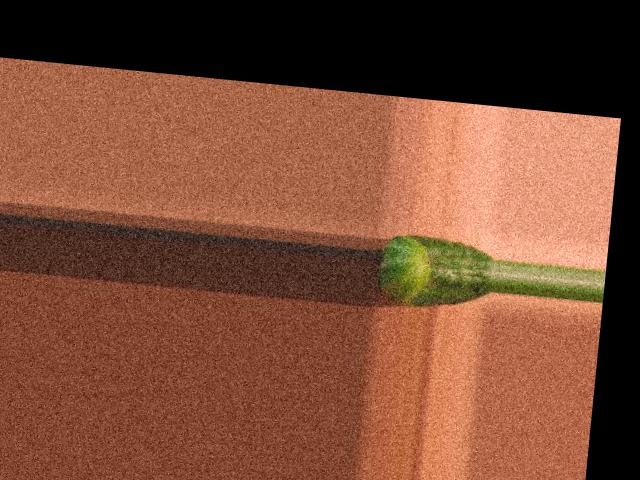cucumber: (376, 231, 495, 313)
